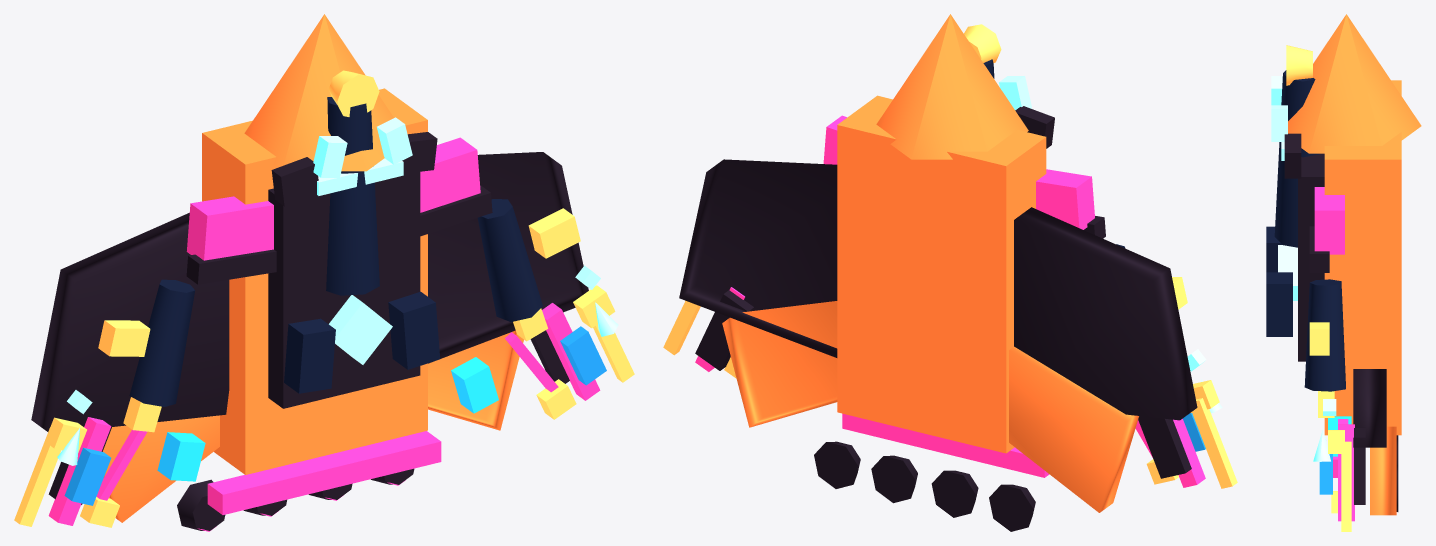
Rendered from boss-02.glb.
3 renders of one model, left to right at view 1: azimuth 30°, elevation 25°; view 2: azimuth 150°, elevation 25°; view 3: azimuth 270°, elevation 25°, orthographic. The views are drawn at different scales.
Parts seen in each view (by area): view 1: heavy_center_vault, left_fortress_shoulder, upper_armor_cap, right_fortress_shoulder, blunt_nose_ram, rear_reactor_crossbeam, center_siege_cannon, left_broadside_turret, right_broadside_turret, left_lower_slab, left_hangar_mouth, right_lower_slab (+31 smaller); view 2: heavy_center_vault, left_fortress_shoulder, right_fortress_shoulder, left_lower_slab, blunt_nose_ram, right_lower_slab, rear_reactor_crossbeam, left_hangar_mouth, left_interceptor_bay_floor, engine_nozzle_-0.58, engine_nozzle_-0.20, engine_nozzle_0.20 (+8 smaller); view 3: heavy_center_vault, blunt_nose_ram, right_broadside_turret, upper_armor_cap, center_siege_cannon, right_fortress_shoulder, right_lower_slab, right_hangar_mouth, right_deck_command_tower, right_deck_warning_strip, siege_cannon_hot_core, right_interceptor_bay_floor (+14 smaller).
Boxes of the visible parts, x1,y1,x2,y2 form: heavy_center_vault: [202, 88, 427, 474]; left_fortress_shoulder: [31, 213, 229, 431]; upper_armor_cap: [268, 171, 420, 408]; right_fortress_shoulder: [428, 152, 588, 363]; blunt_nose_ram: [244, 14, 393, 171]; rear_reactor_crossbeam: [207, 431, 441, 514]; center_siege_cannon: [326, 97, 379, 295]; left_broadside_turret: [129, 279, 195, 406]; right_broadside_turret: [477, 199, 542, 321]; left_lower_slab: [102, 415, 219, 522]; left_hangar_mouth: [186, 196, 273, 260]; right_lower_slab: [428, 330, 523, 430]; heavy_center_vault: [837, 95, 1046, 453]; left_fortress_shoulder: [1014, 207, 1197, 420]; right_fortress_shoulder: [679, 159, 837, 357]; left_lower_slab: [1009, 346, 1138, 512]; blunt_nose_ram: [876, 14, 1028, 159]; right_lower_slab: [722, 301, 837, 427]; rear_reactor_crossbeam: [842, 413, 1049, 477]; left_hangar_mouth: [1036, 169, 1094, 229]; left_interceptor_bay_floor: [1138, 416, 1191, 478]; engine_nozzle_-0.58: [989, 484, 1035, 531]; engine_nozzle_-0.20: [931, 470, 978, 517]; engine_nozzle_0.20: [871, 455, 917, 503]; heavy_center_vault: [1324, 80, 1401, 435]; blunt_nose_ram: [1288, 14, 1421, 153]; right_broadside_turret: [1304, 279, 1345, 391]; upper_armor_cap: [1298, 153, 1324, 361]; center_siege_cannon: [1274, 70, 1319, 247]; right_fortress_shoulder: [1353, 369, 1386, 447]; right_lower_slab: [1370, 426, 1396, 515]; right_hangar_mouth: [1314, 187, 1344, 254]; right_deck_command_tower: [1266, 272, 1292, 336]; right_deck_warning_strip: [1341, 441, 1351, 531]; siege_cannon_hot_core: [1286, 45, 1312, 85]; right_interceptor_bay_floor: [1354, 427, 1365, 504].
Size of the model in its own units: 3.77 by 3.02 by 0.93.
